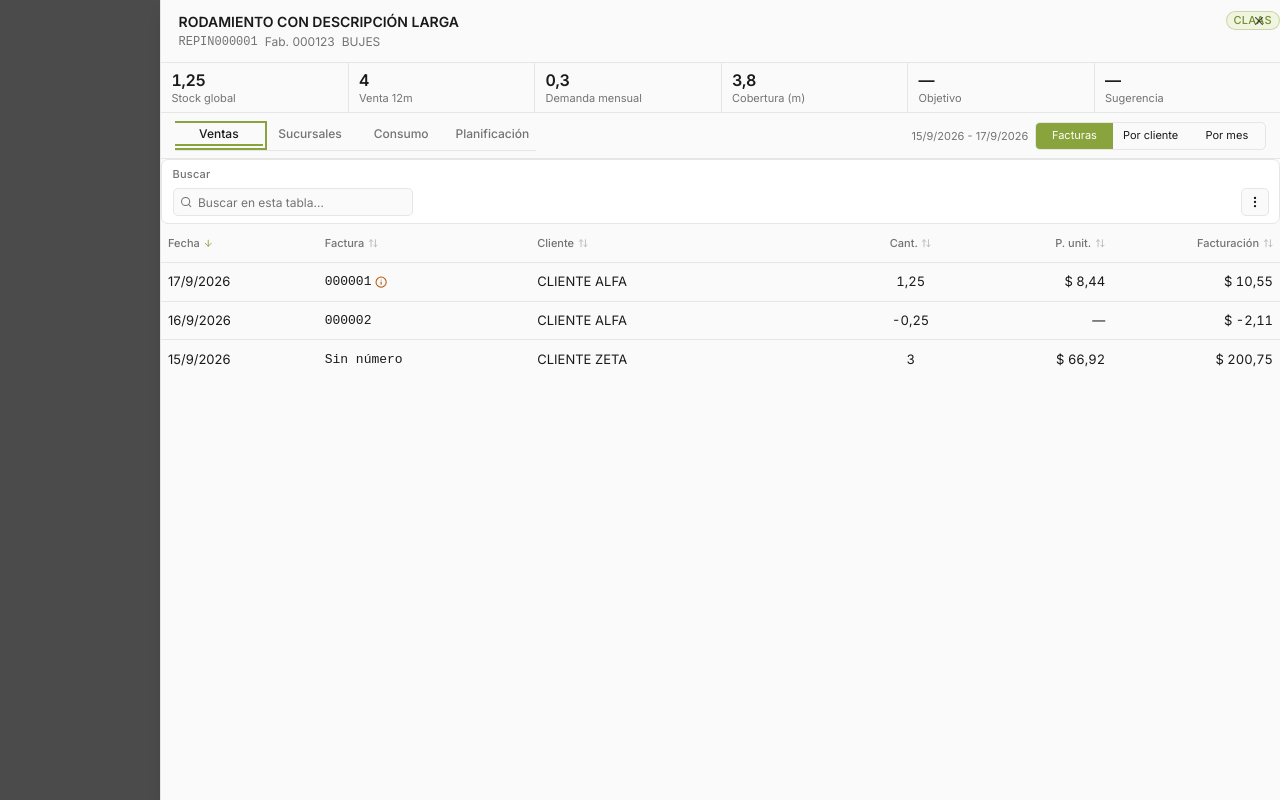
compact part history sheet › centers branch sales and stock, retaining fractional balances and zeros
Press the mouse on the tab "Sucursales" at (310, 135), box [266,124,354,146]
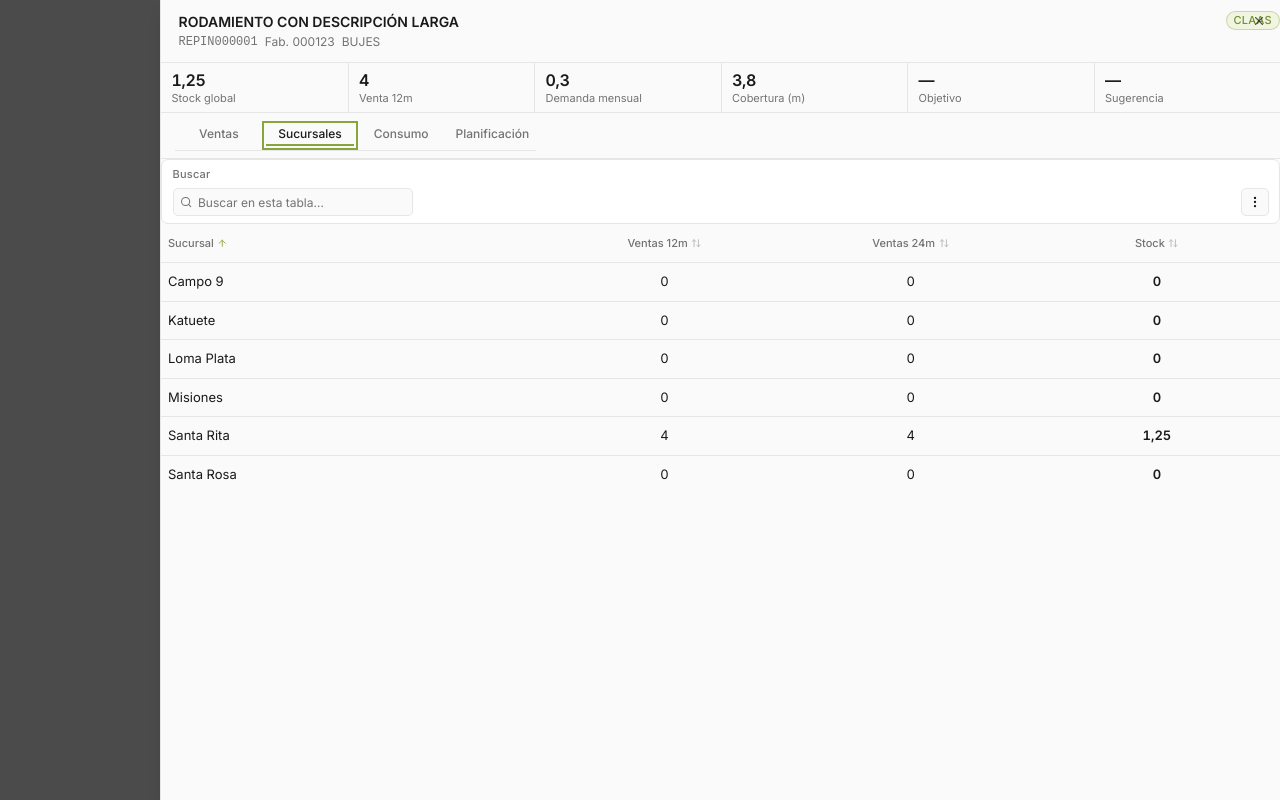
Now the cells read "Santa Rita", "4", "4", "1,25", in this order, box [161,417,542,455]; [542,417,788,455]; [788,417,1034,455]; [1034,417,1279,455]
